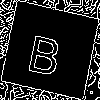B: (25, 25, 66, 77)
